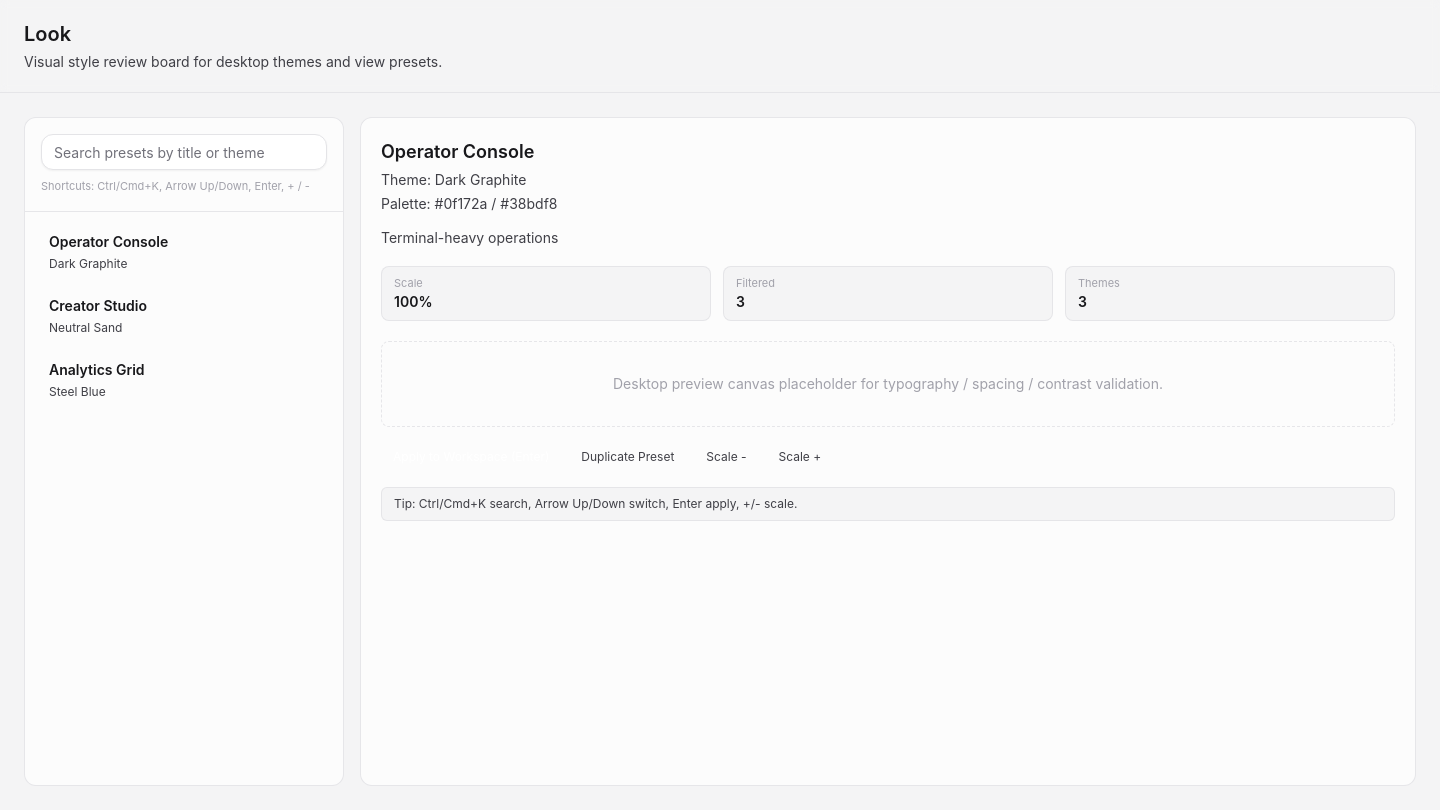
Test: LookPage desktop interactions › filters look presets by keyword
Step 1. Type "steel" into the field with placeholder "Search presets by title or theme" → (184, 152), box x1=41 y1=134 x2=327 y2=170
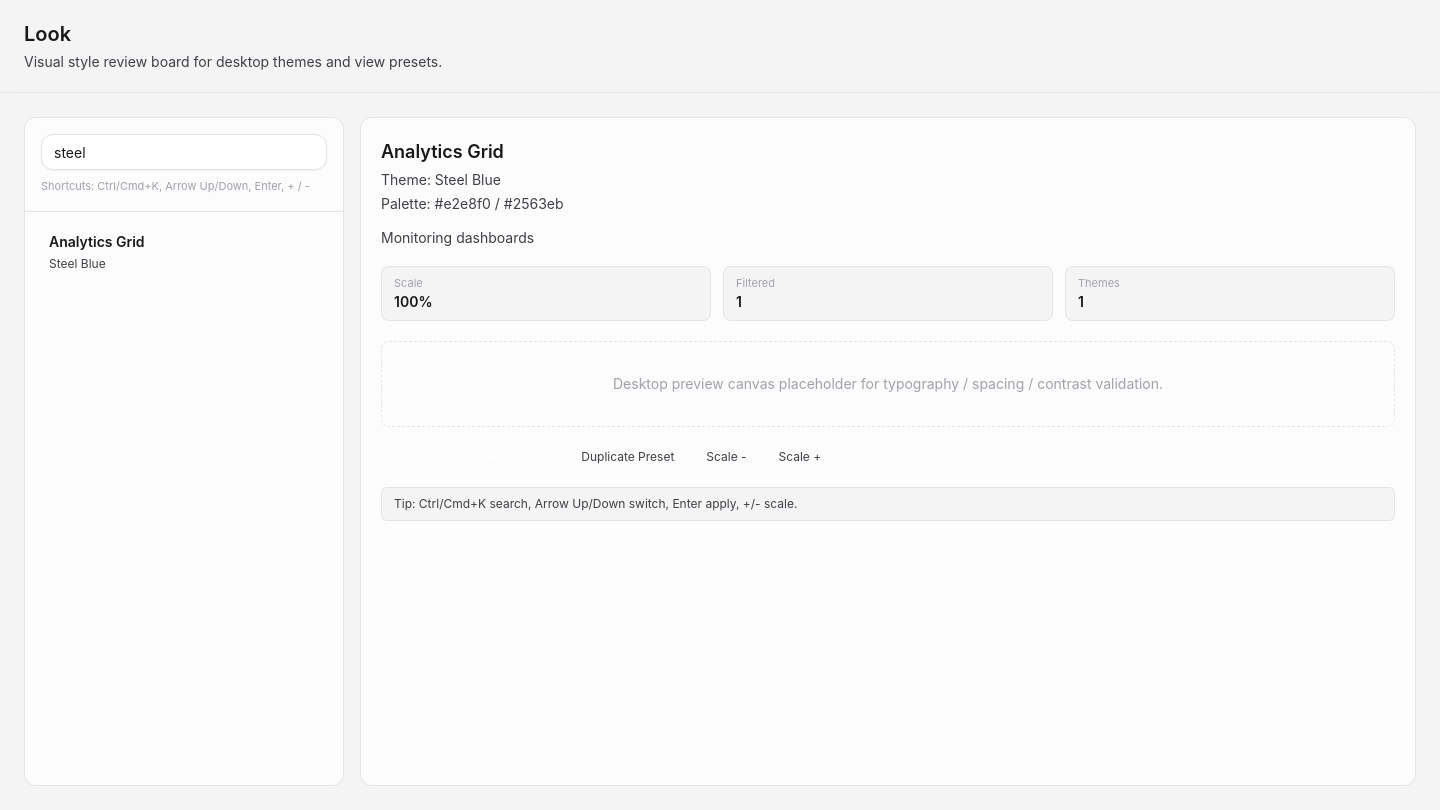
Expected: the text "Analytics Grid" is shown, x1=49 y1=232 x2=145 y2=250
Result: the button "Creator Studio" is gone
